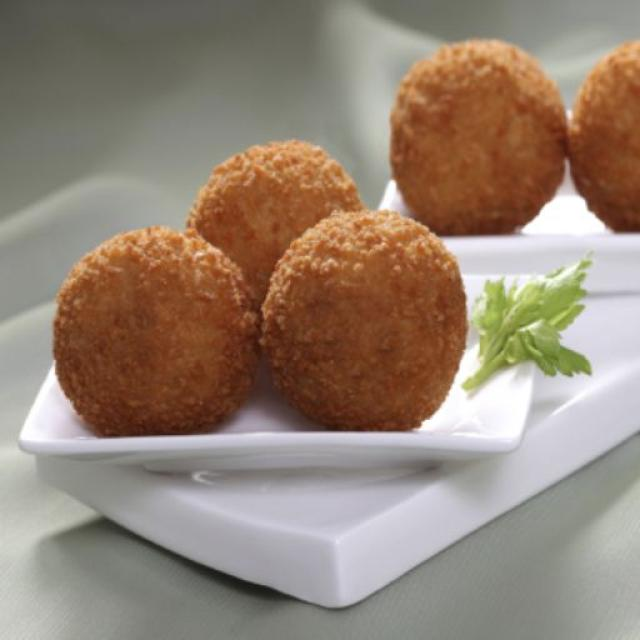Cutlet: (49, 134, 467, 448), (389, 32, 640, 232)
